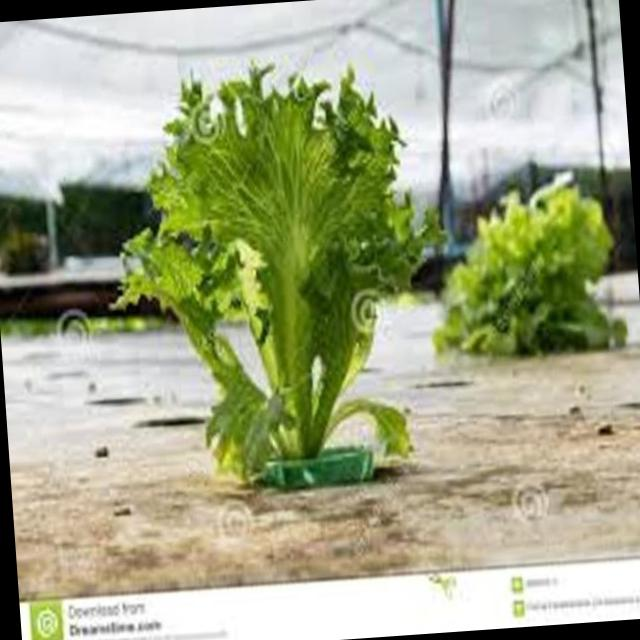Lettuce-Ready-to-Harvest: (118, 67, 429, 488), (434, 179, 622, 355)
